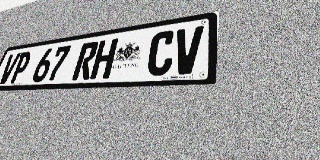6: (31, 47, 56, 82)
7: (45, 45, 71, 82)
C: (145, 30, 176, 76)
H: (90, 38, 118, 79)
P: (8, 51, 33, 84)
R: (71, 41, 99, 80)
V: (171, 26, 204, 75), (0, 53, 21, 84)
